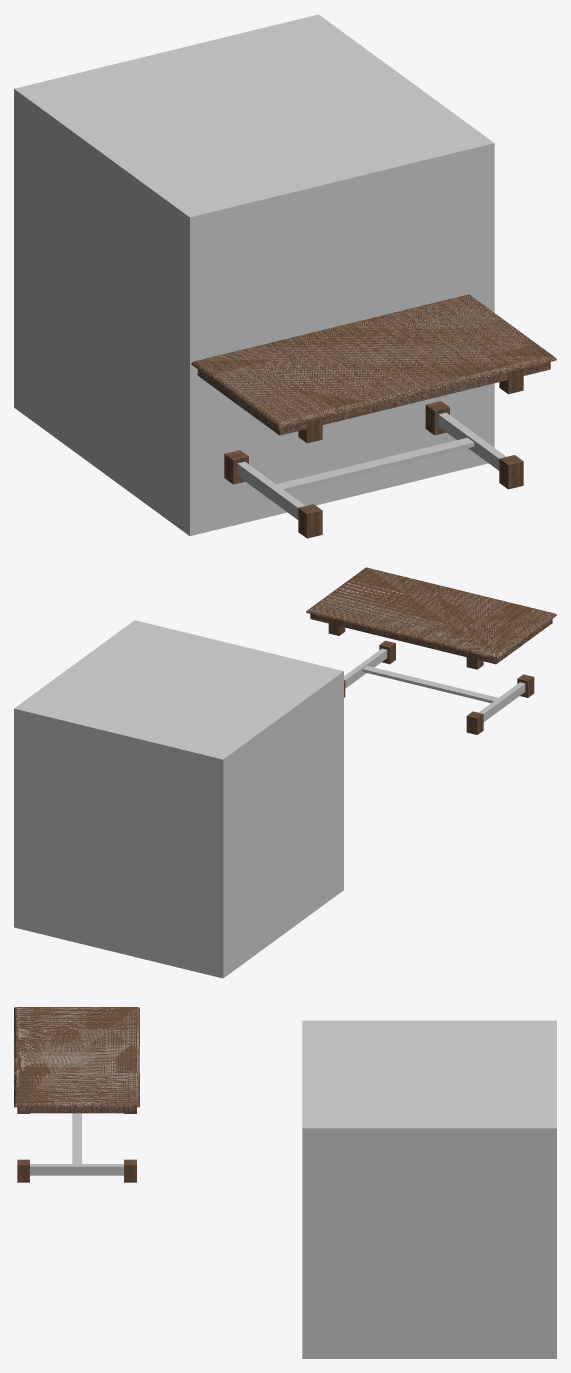
File: French_Baluster_Dining_Table.fbx
3 views of the same model, one above another, from view 1: azimuth 30°, elevation 25°; view 2: azimuth 150°, elevation 25°; view 3: azimuth 270°, elevation 25° (orthographic). The views are drawn at different scales.
Parts seen in each view (by area): view 1: Cube, group_7.003, group_7.002, group_5, group_4, group_6, group_1.007, group_1.006; view 2: Cube, group_7.003, group_7.002, group_5, group_4, group_6; view 3: Cube, group_7.003, group_6, group_7.002, group_5.
Boxes of the visible parts, box(x1,y1,x2,y2) form: Cube: box(14, 14, 494, 536); group_7.003: box(191, 294, 556, 428); group_7.002: box(197, 362, 550, 435); group_5: box(276, 437, 474, 491); group_4: box(237, 461, 305, 519); group_6: box(438, 412, 506, 470); group_1.007: box(499, 455, 523, 489); group_1.006: box(298, 504, 322, 538); Cube: box(14, 620, 343, 978); group_7.003: box(306, 567, 556, 659); group_7.002: box(310, 614, 552, 664); group_5: box(362, 666, 498, 703); group_4: box(479, 682, 525, 721); group_6: box(344, 648, 387, 688); Cube: box(302, 1020, 556, 1358); group_7.003: box(14, 1007, 139, 1107); group_6: box(30, 1164, 123, 1175); group_7.002: box(17, 1107, 136, 1113); group_5: box(72, 1113, 81, 1163).
Bounding box in the file's own units: 2.73 × 2 × 4.27.
